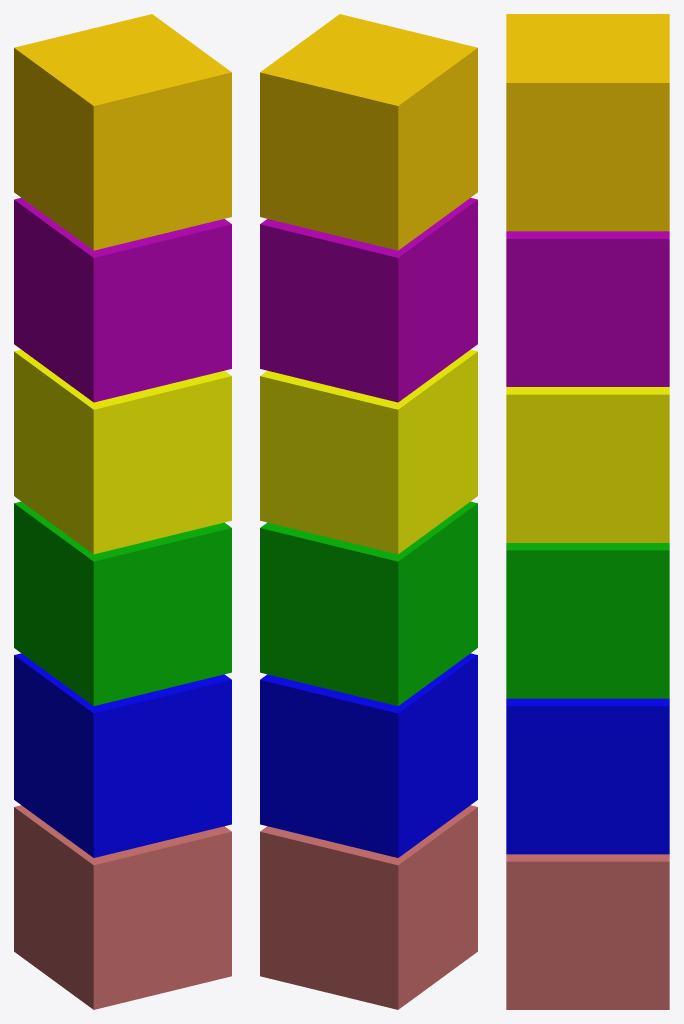
The model's file is oeuvre4-colonne.glb.
3 views of the same model, side by side, from view 1: azimuth 30°, elevation 25°; view 2: azimuth 150°, elevation 25°; view 3: azimuth 270°, elevation 25° (orthographic). The views are drawn at different scales.
Bounding box in the file's own units: 2 × 12.5 × 2.
